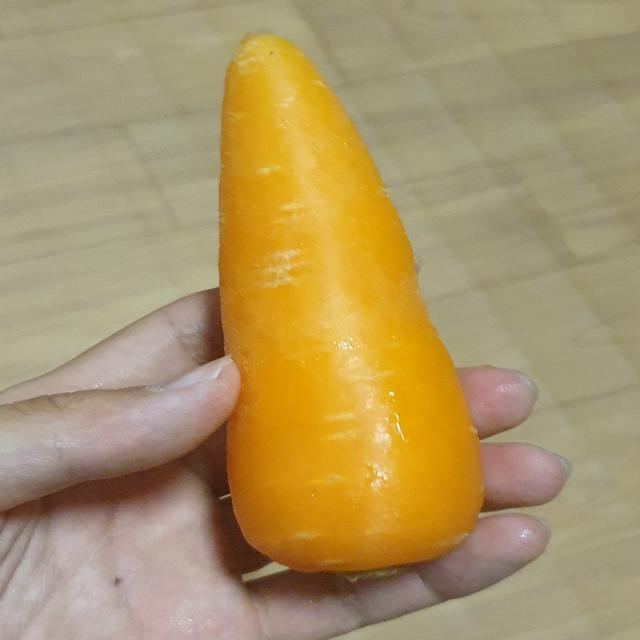Carrot: (182, 18, 498, 592)
